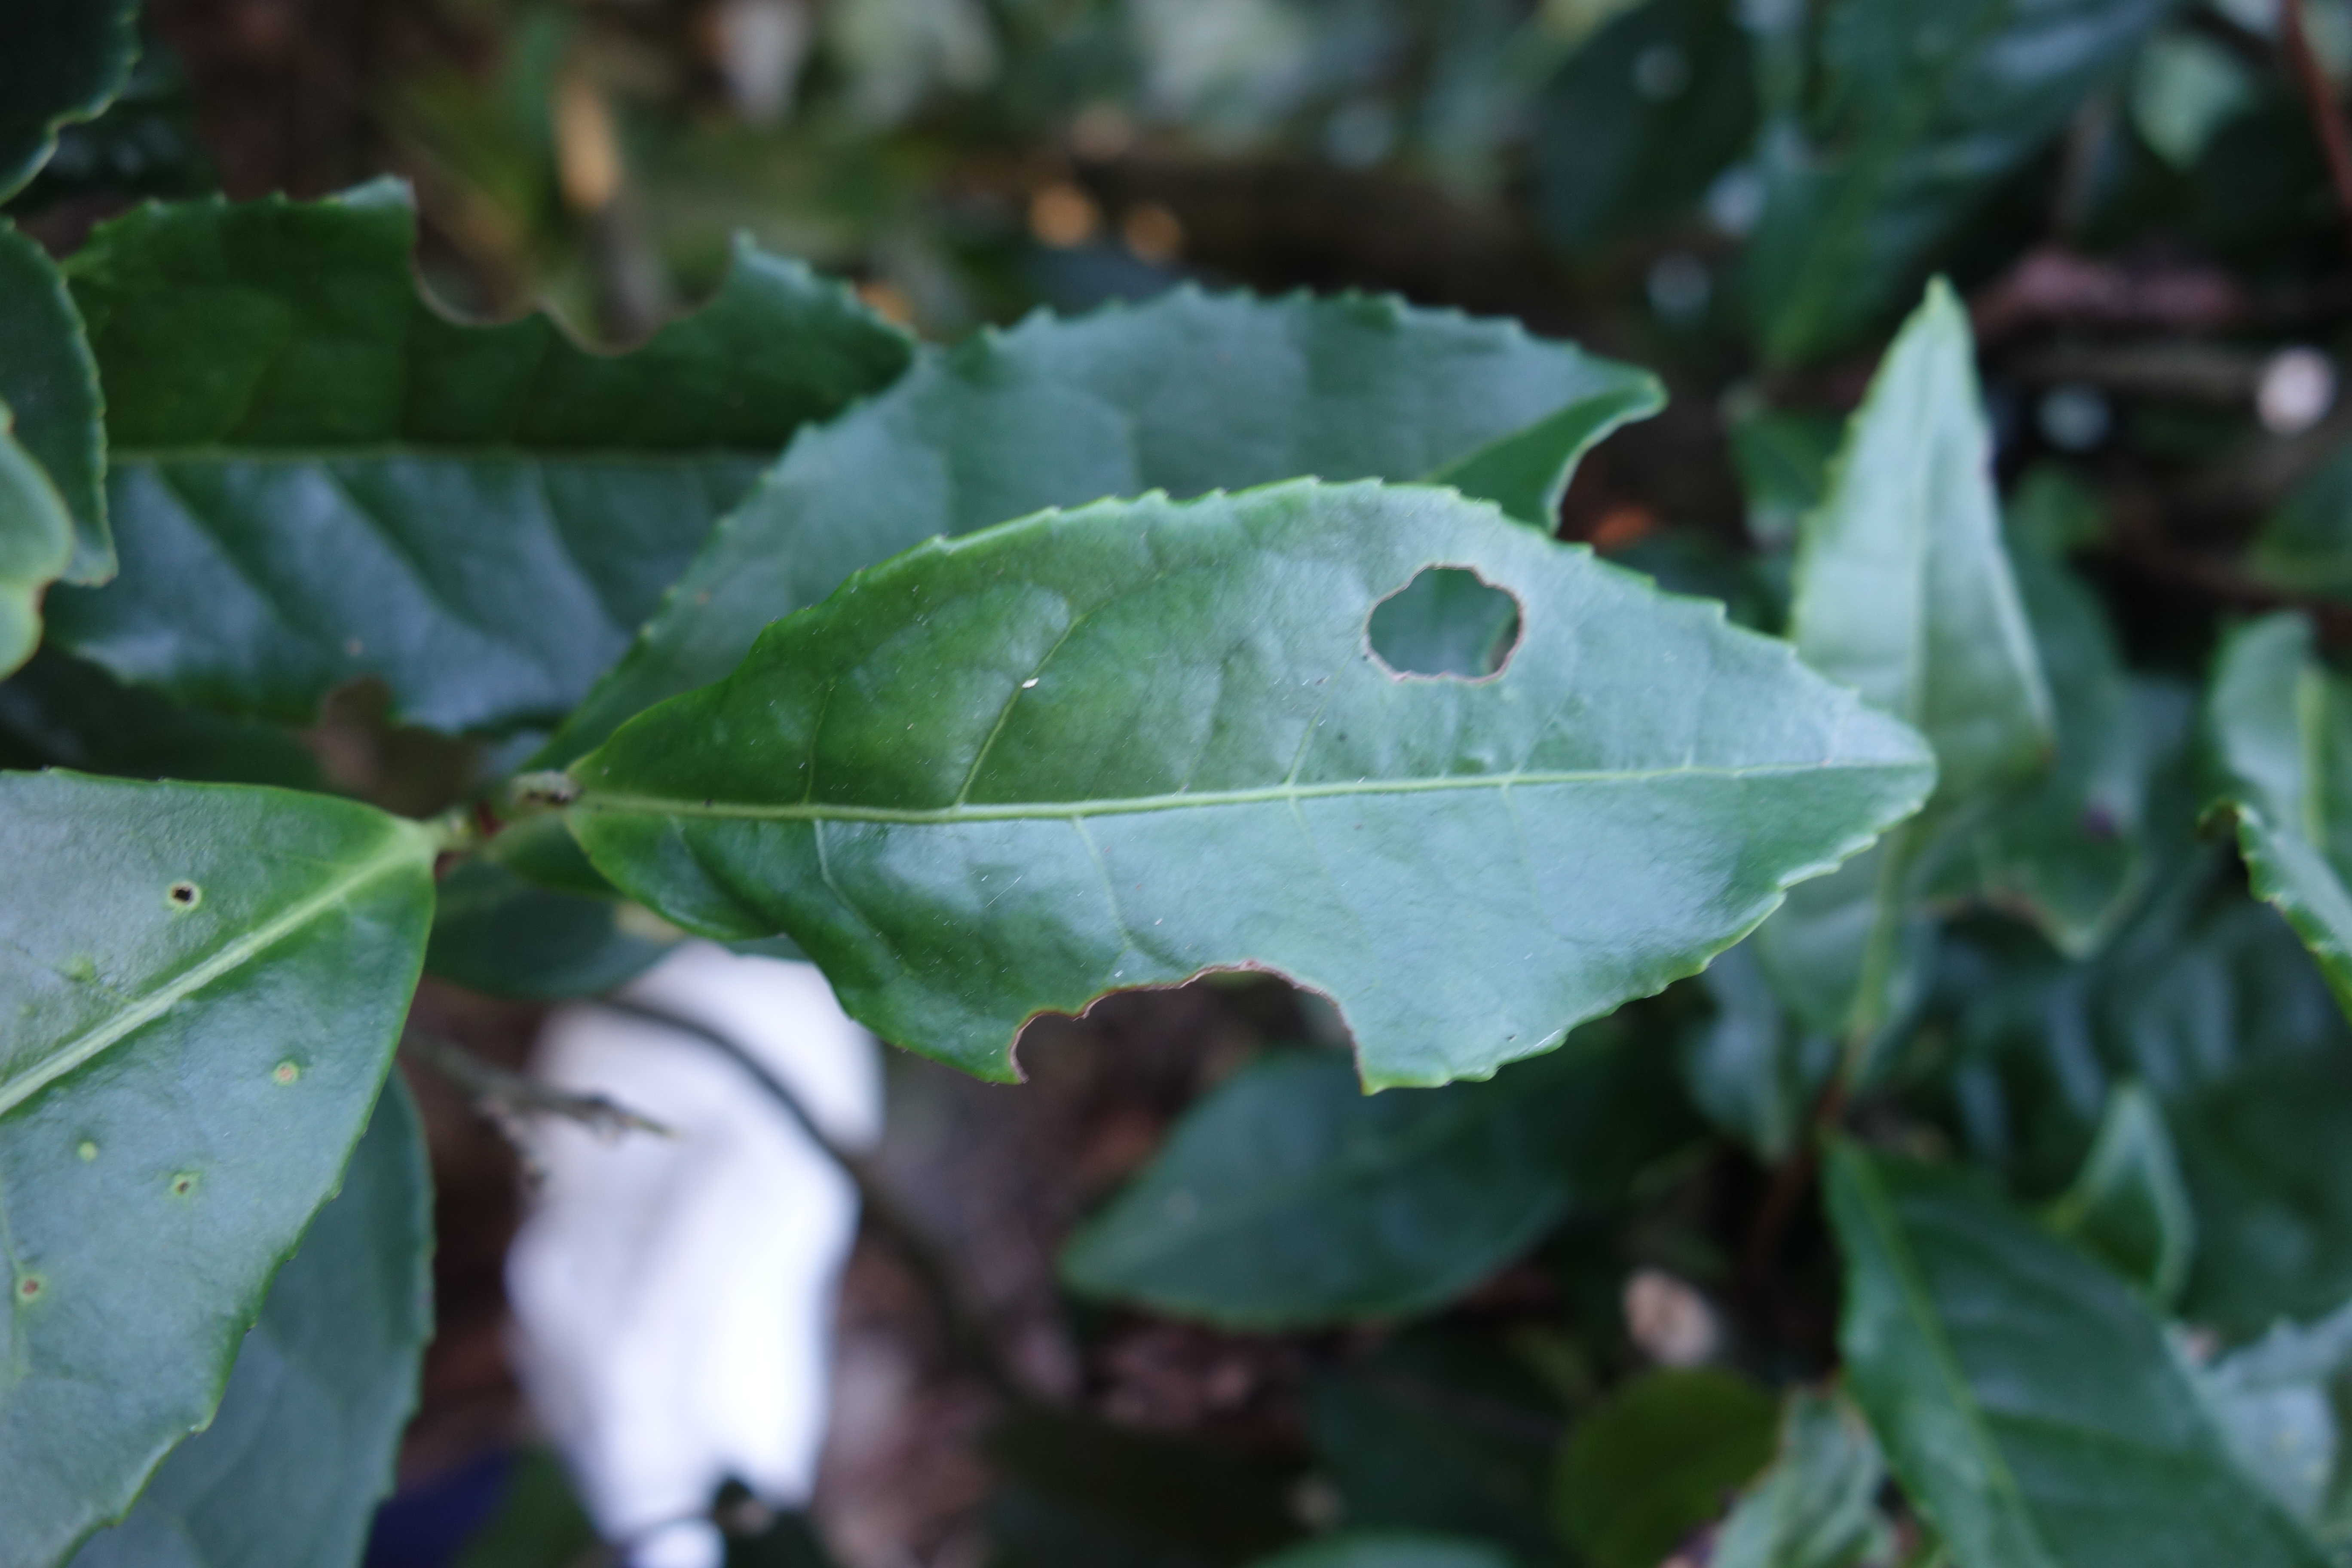chihuo_high: (555, 476, 1949, 1095), (2, 759, 451, 1563)
